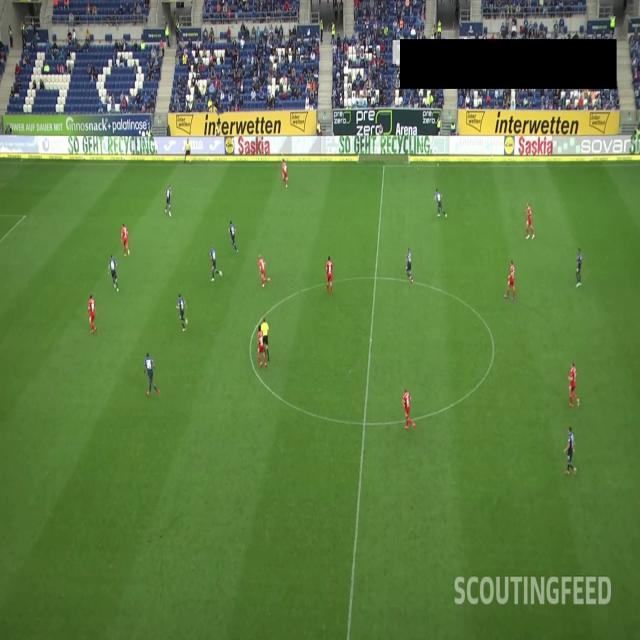player: (565, 424, 579, 476), (144, 349, 158, 398), (253, 325, 267, 373), (399, 388, 414, 429), (568, 360, 580, 407), (175, 291, 188, 334), (404, 246, 416, 285), (256, 255, 272, 284), (524, 201, 536, 236), (506, 260, 517, 297), (227, 220, 239, 253), (434, 187, 447, 217), (326, 253, 335, 295), (210, 246, 220, 283), (109, 253, 119, 290), (88, 291, 97, 331), (120, 223, 130, 254), (575, 244, 581, 289), (281, 157, 289, 188), (164, 185, 171, 214)
